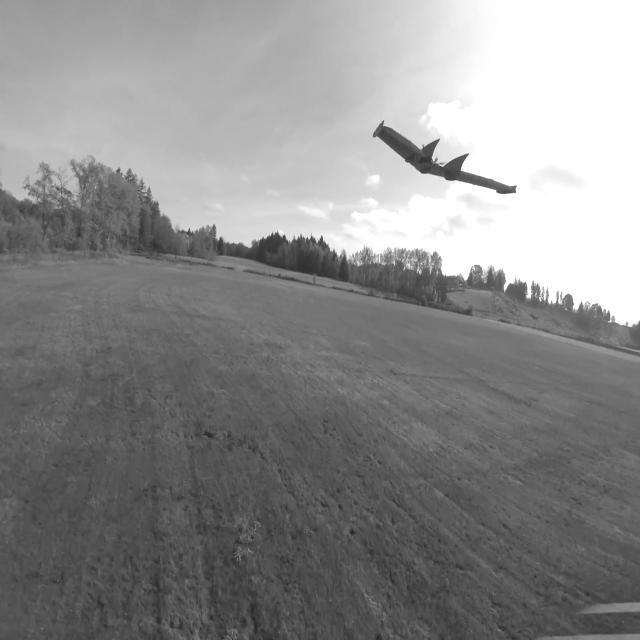iha: (371, 139, 524, 169)
